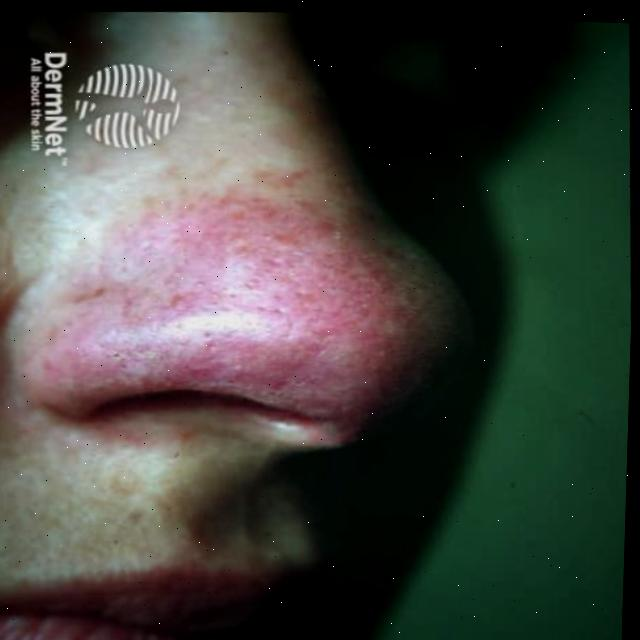lupus-detected: (35, 151, 480, 529)
